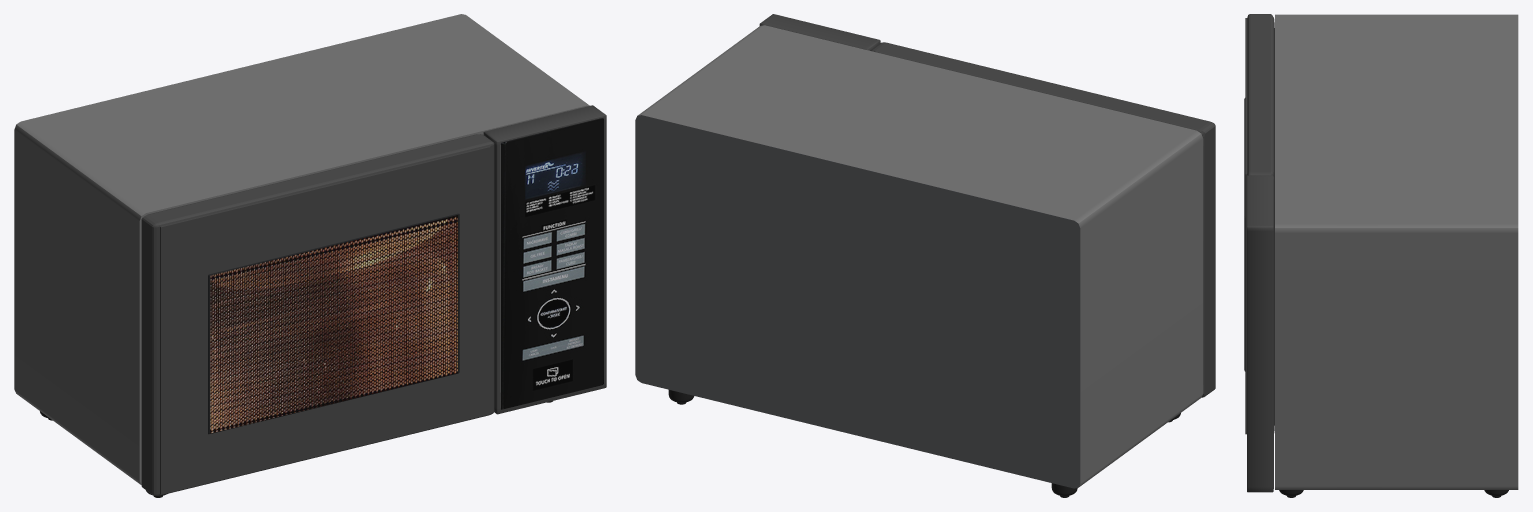
Rendered from micro.glb.
3 renders of one model, left to right at view 1: azimuth 30°, elevation 25°; view 2: azimuth 150°, elevation 25°; view 3: azimuth 270°, elevation 25°, orthographic. The views are drawn at different scales.
Parts seen in each view (by area): view 1: polySurface36, polySurface33; view 2: polySurface36, polySurface33; view 3: polySurface36, polySurface33.
Boxes of the visible parts, bbox=[...] form: polySurface36: bbox=[14, 14, 606, 484]; polySurface33: bbox=[141, 134, 494, 495]; polySurface36: bbox=[635, 14, 1203, 497]; polySurface33: bbox=[870, 42, 1215, 397]; polySurface36: bbox=[1247, 14, 1518, 497]; polySurface33: bbox=[1244, 14, 1274, 434].
Bounding box in the file's own units: 0.5058 × 0.3136 × 0.2723.
Materials: 10 (6 with a texture image).
